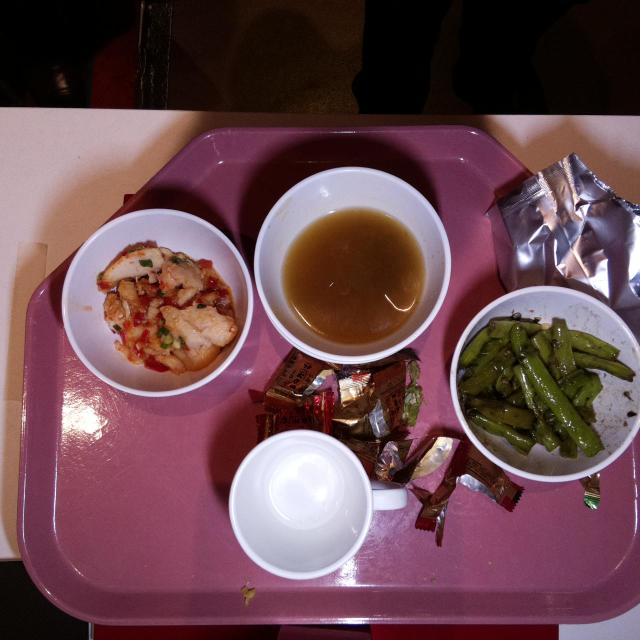Fish: (98, 244, 236, 376)
Vegetable: (466, 321, 614, 459)
